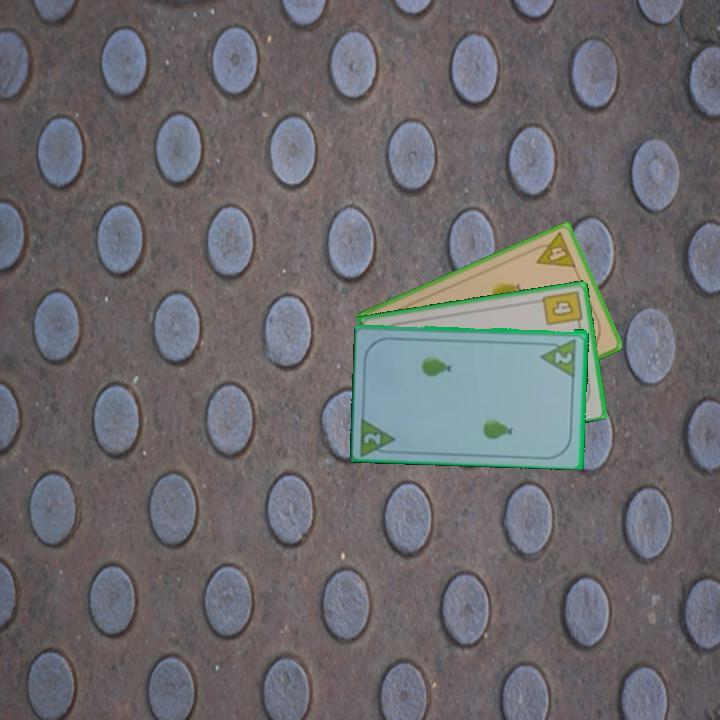2p: (358, 412, 400, 457), (538, 335, 579, 378)
4b: (539, 287, 585, 331)
4p: (528, 229, 579, 271)
